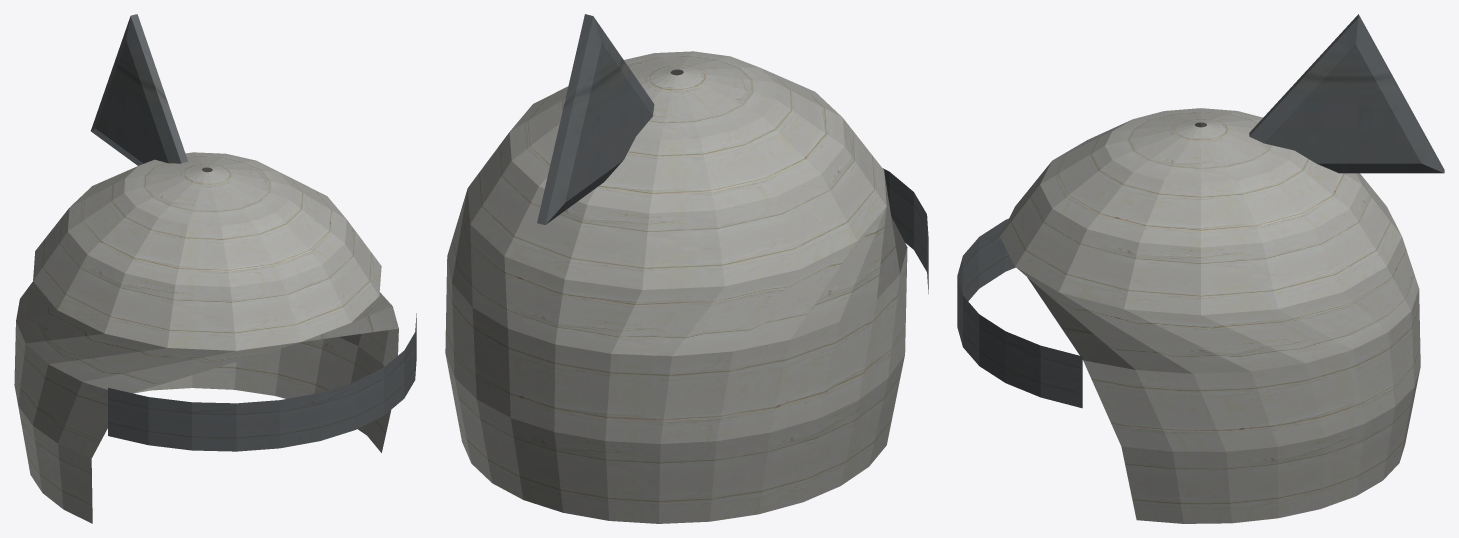
Rendered from eq_future_1_head.glb.
The picture shows the model from 3 angles, left to right: view 1: azimuth 30°, elevation 25°; view 2: azimuth 150°, elevation 25°; view 3: azimuth 270°, elevation 25°; orthographic projection. The views are drawn at different scales.
Visible parts, largest first — view 1: eq_future_1_head; view 2: eq_future_1_head; view 3: eq_future_1_head.
Part boxes in pixels (bbox=[...]): eq_future_1_head: bbox=[14, 14, 416, 523]; eq_future_1_head: bbox=[445, 14, 928, 523]; eq_future_1_head: bbox=[957, 14, 1444, 523].
Bounding box in the file's own units: 0.2821 × 0.33 × 0.34.
Materials: 2 (2 with a texture image).
